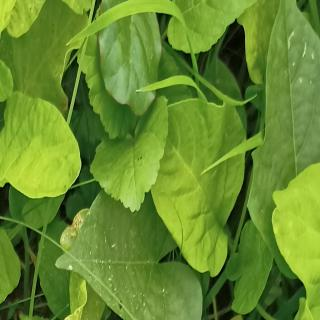karat_putih: (44, 201, 104, 320)
